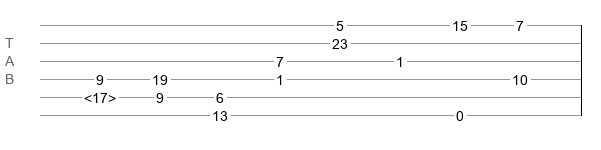0: (456, 108, 464, 118)
1: (276, 72, 284, 82), (396, 54, 404, 64)
10: (512, 72, 528, 82)
13: (212, 108, 228, 118)
15: (452, 18, 468, 28)
19: (152, 72, 168, 82)
23: (332, 36, 348, 46)
5: (336, 18, 344, 28)
6: (216, 90, 224, 100)
7: (276, 54, 284, 64), (516, 18, 524, 28)
9: (96, 72, 104, 82), (156, 90, 164, 100)
harmonic: (84, 90, 116, 100)
